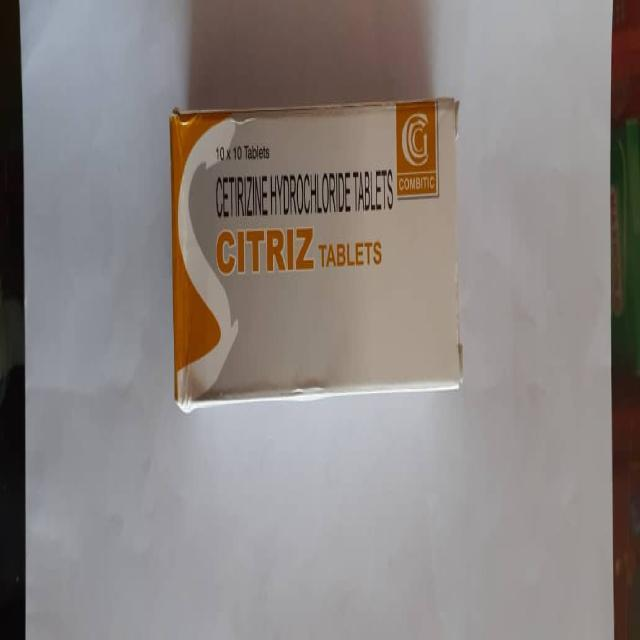drug-name: (214, 226, 317, 276)
